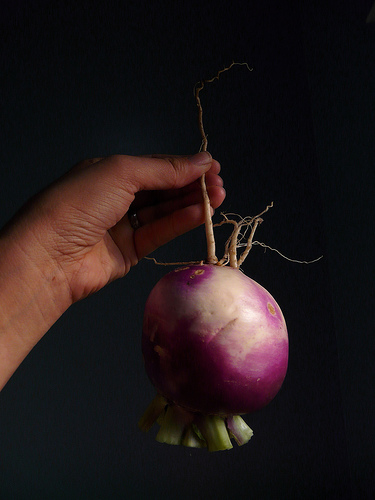turnip: (128, 57, 323, 448)
